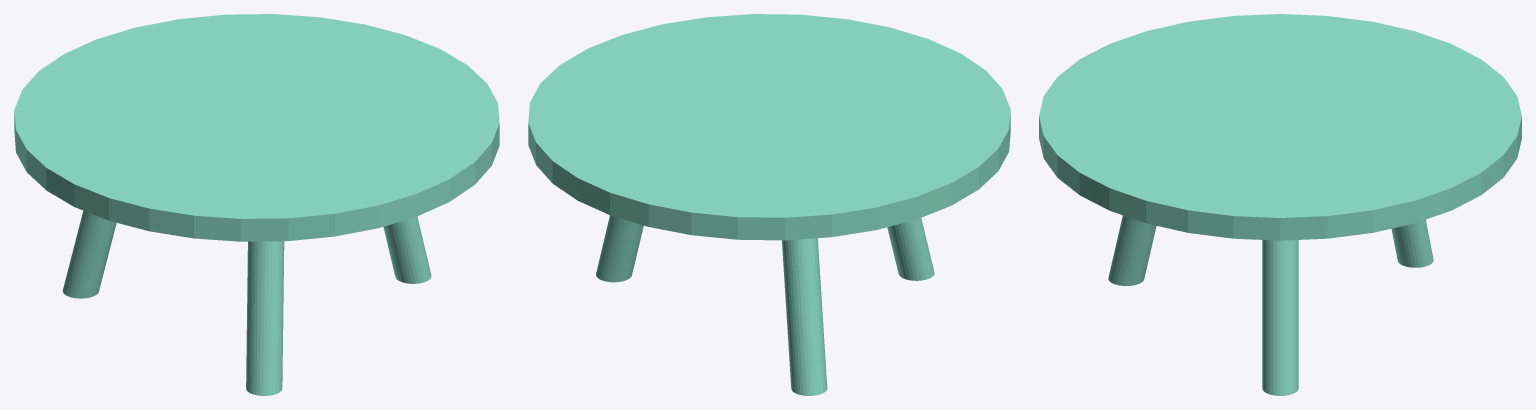
File: table_13.glb
3 renders of one model, left to right at view 1: azimuth 30°, elevation 25°; view 2: azimuth 150°, elevation 25°; view 3: azimuth 270°, elevation 25°, orthographic.
Parts seen in each view (by area): view 1: table_white_001.001; view 2: table_white_001.001; view 3: table_white_001.001.
Part boxes in pixels (bbox=[...]): table_white_001.001: bbox=[14, 14, 499, 395]; table_white_001.001: bbox=[528, 14, 1010, 395]; table_white_001.001: bbox=[1039, 14, 1521, 395].
Size of the model in its own units: 0.7572 by 0.34 by 0.7572.
